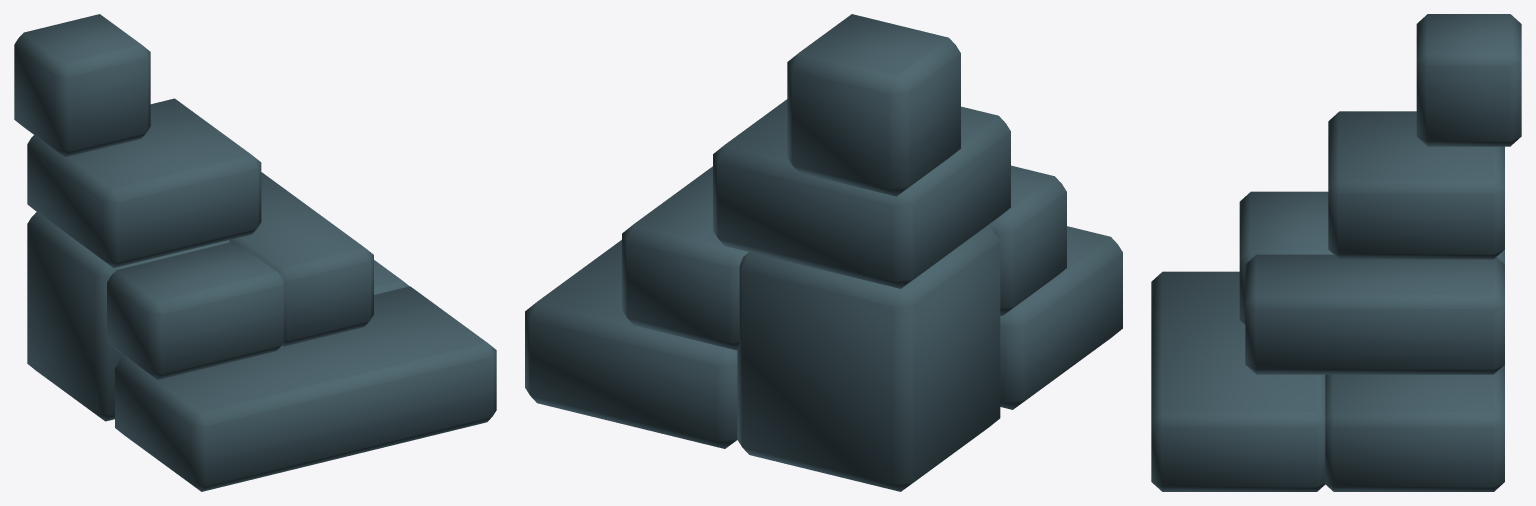
File: stair_corner_convex_hue_2.fbx
The picture shows the model from 3 angles, left to right: view 1: azimuth 30°, elevation 25°; view 2: azimuth 150°, elevation 25°; view 3: azimuth 270°, elevation 25°; orthographic projection. The views are drawn at different scales.
Parts seen in each view (by area): view 1: stair_corner_convex_hue_2; view 2: stair_corner_convex_hue_2; view 3: stair_corner_convex_hue_2.
Boxes of the visible parts, x1,y1,x2,y2 form: stair_corner_convex_hue_2: [14, 14, 496, 491]; stair_corner_convex_hue_2: [525, 14, 1122, 491]; stair_corner_convex_hue_2: [1151, 14, 1521, 491].
Size of the model in its own units: 102 by 105 by 105.
